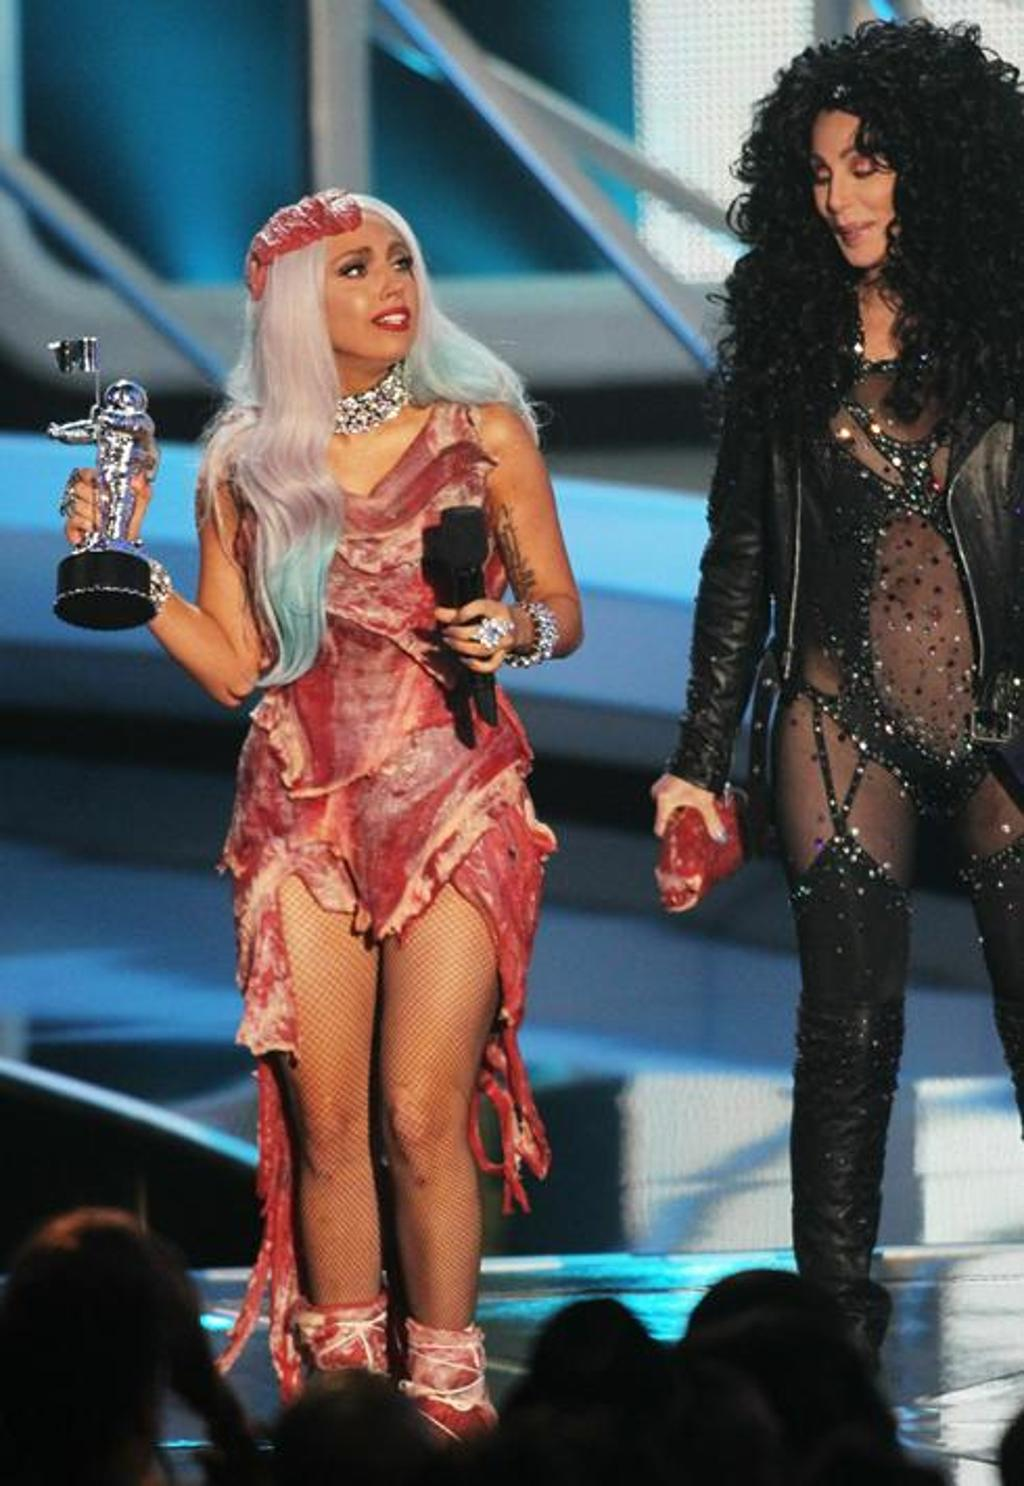face: (804, 102, 917, 264), (325, 215, 424, 363)
